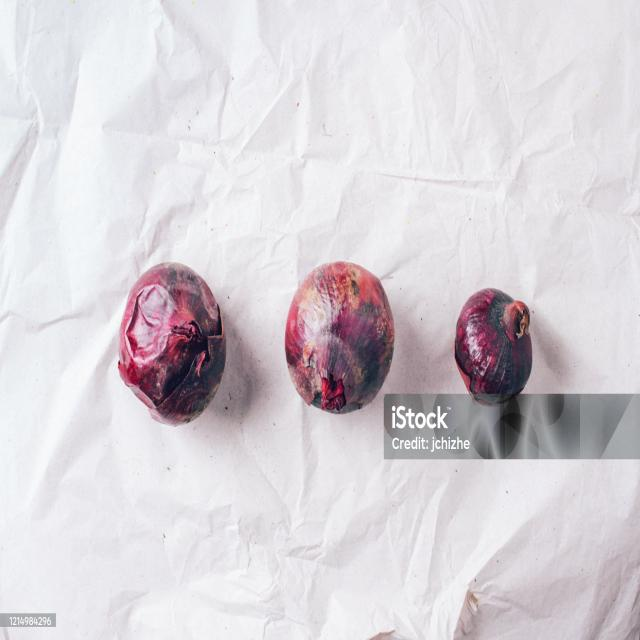rotten: (117, 263, 226, 423), (285, 262, 394, 412), (454, 288, 530, 401)
